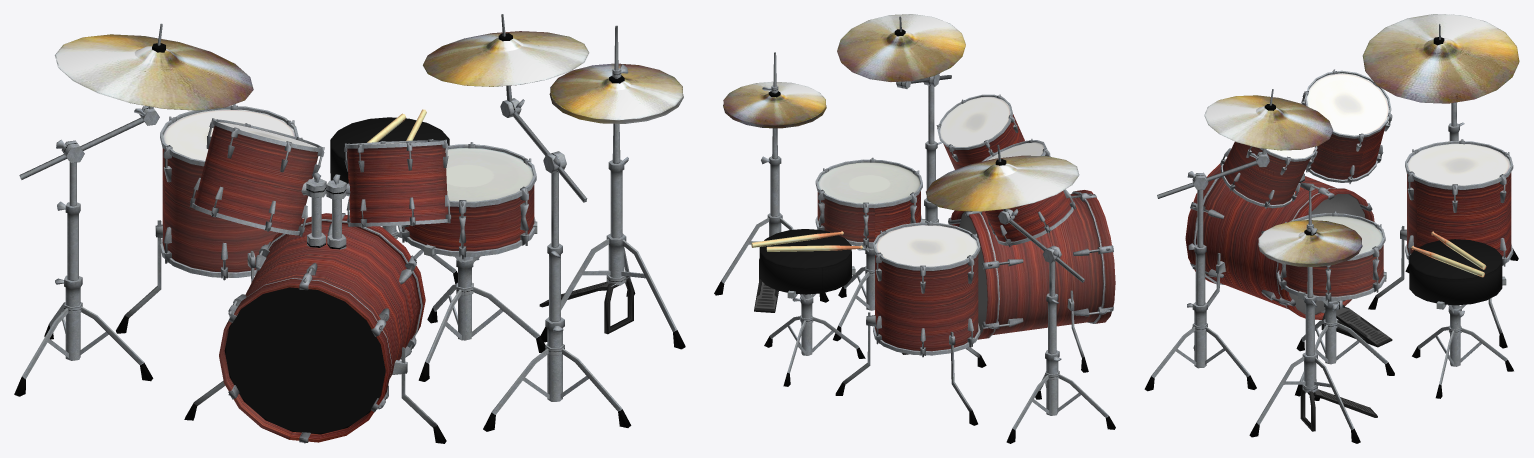
The model's file is drum_set.obj.
The picture shows the model from 3 angles, left to right: view 1: azimuth 30°, elevation 25°; view 2: azimuth 150°, elevation 25°; view 3: azimuth 270°, elevation 25°; orthographic projection. The views are drawn at different scales.
Parts seen in each view (by area): view 1: DKFYB; view 2: DKFYB; view 3: DKFYB.
Part boxes in pixels (box(x1,y1,x2,y2)): DKFYB: box(14, 14, 685, 443); DKFYB: box(714, 14, 1115, 443); DKFYB: box(1144, 14, 1519, 443).
Size of the model in its own units: 2.11 by 1.27 by 1.52.
